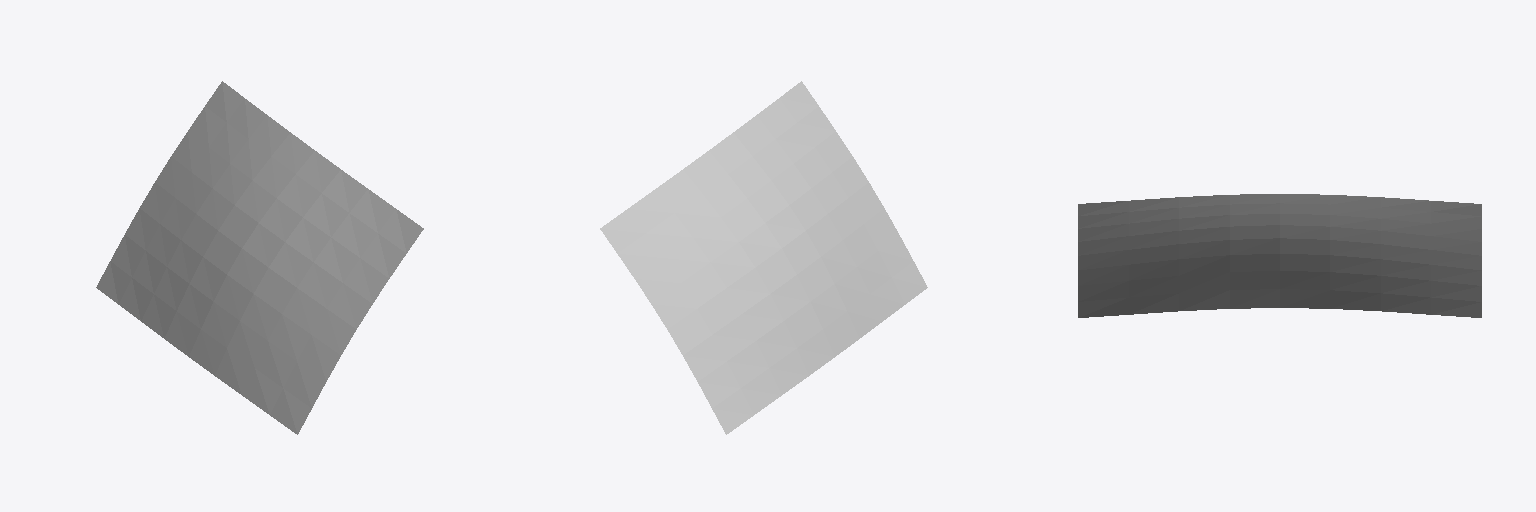
File: screen.obj
3 views of the same model, side by side, from view 1: azimuth 30°, elevation 25°; view 2: azimuth 150°, elevation 25°; view 3: azimuth 270°, elevation 25° (orthographic).
Visible parts, largest first — view 1: Cube.003; view 2: Cube.003; view 3: Cube.003.
Boxes of the visible parts, x1=… form: Cube.003: x1=96, y1=81, x2=423, y2=434; Cube.003: x1=600, y1=81, x2=927, y2=434; Cube.003: x1=1078, y1=194, x2=1481, y2=317.
Size of the model in its own units: 0.3573 by 0.4629 by 0.9294.